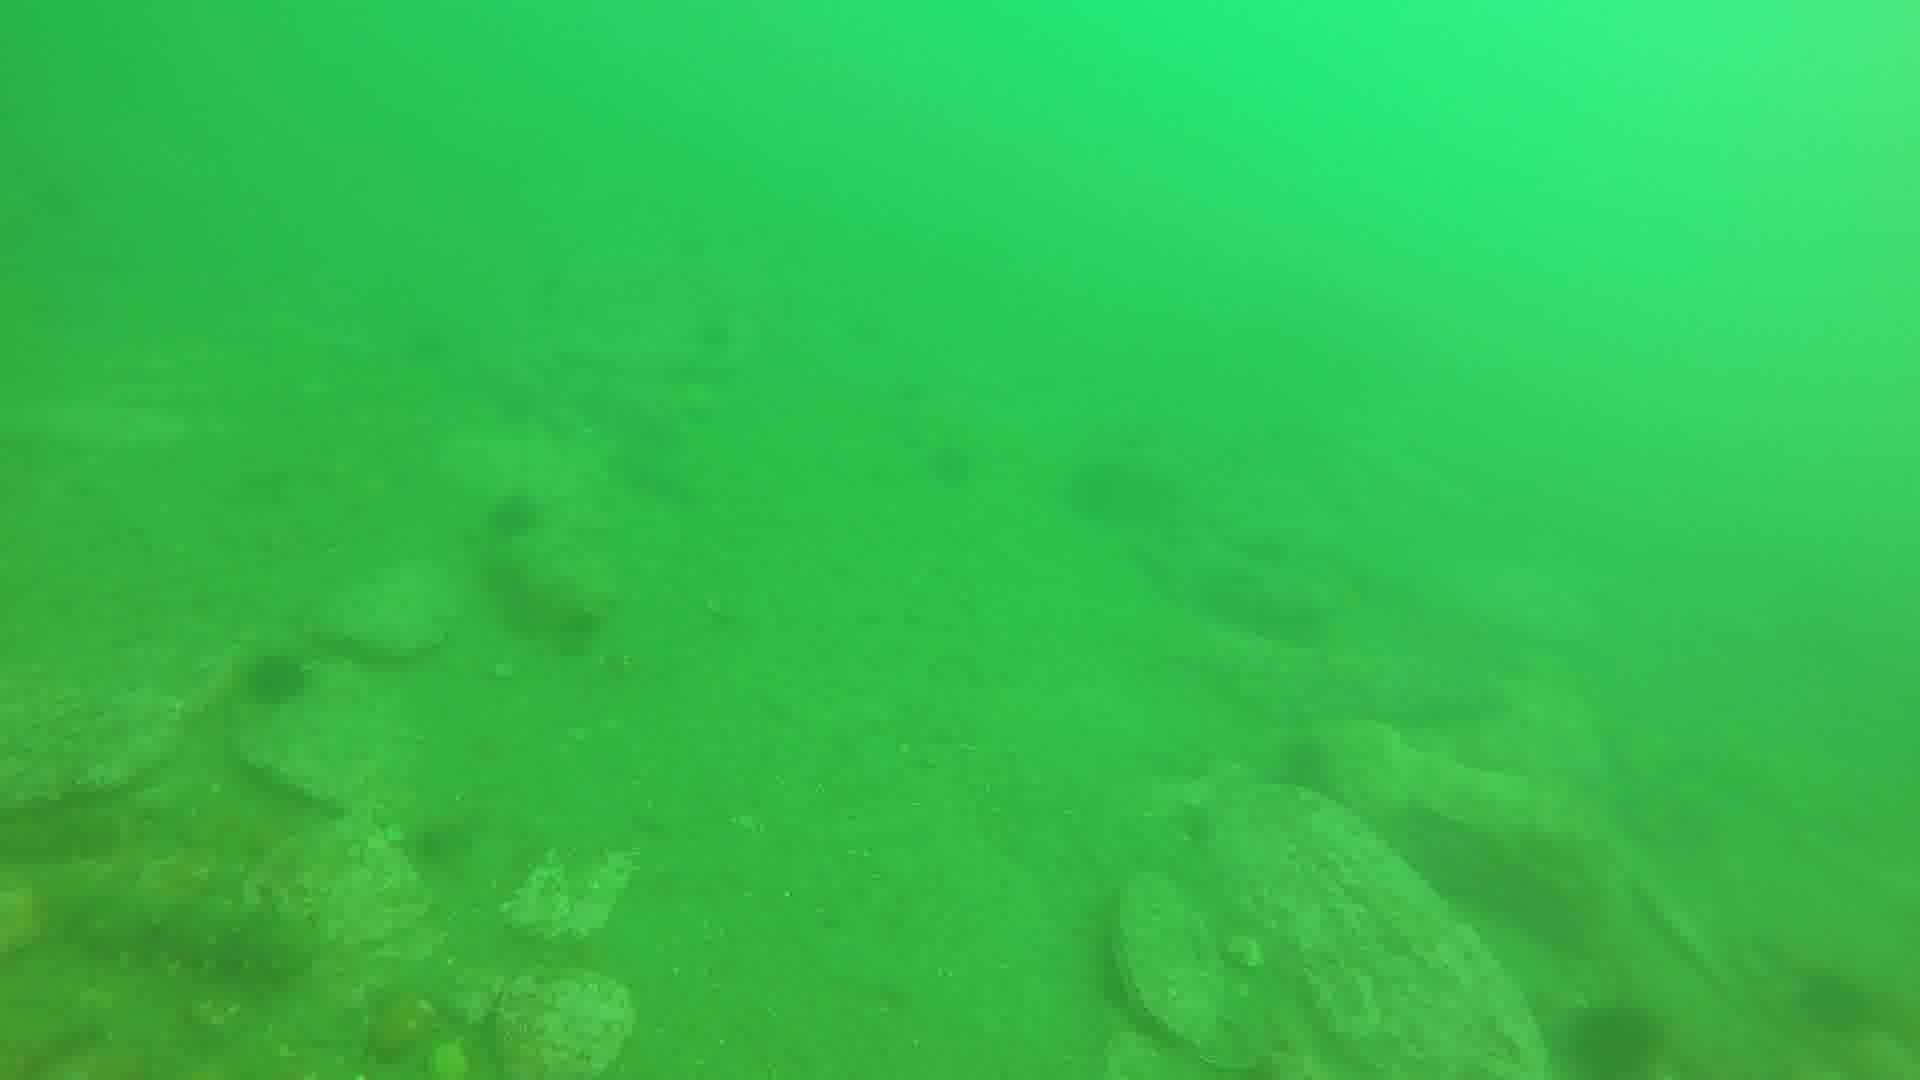echinus: (1557, 996, 1671, 1075), (237, 646, 314, 712), (1270, 731, 1340, 799), (477, 487, 546, 546), (922, 436, 981, 492)
holothurian: (55, 884, 314, 988)
